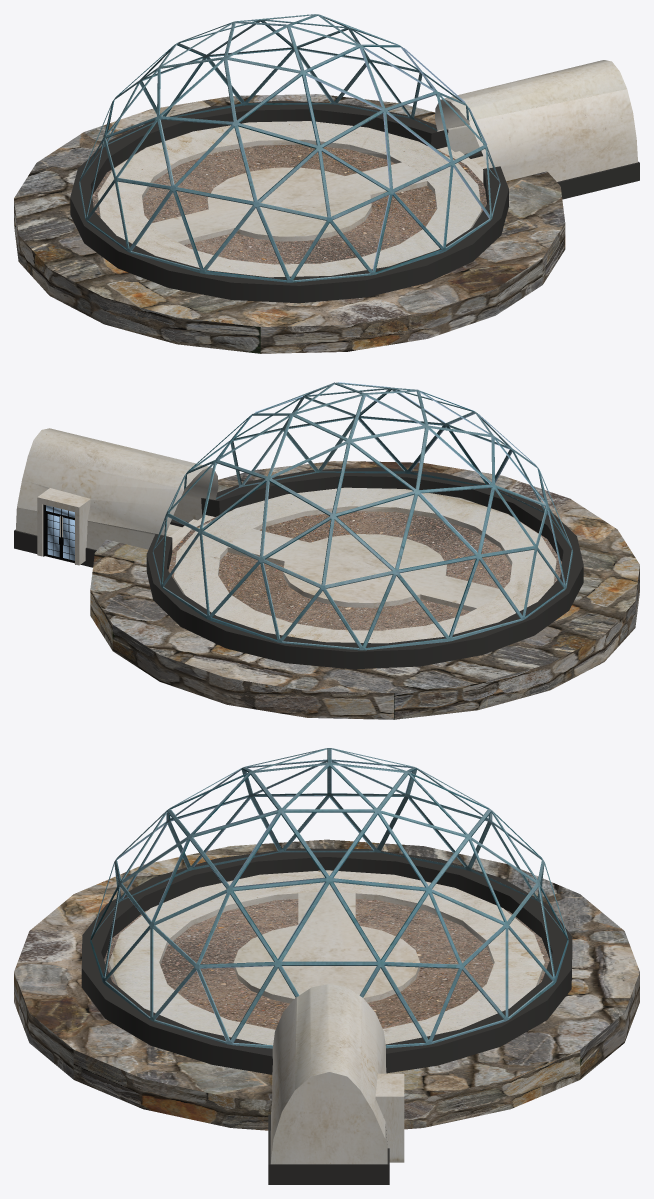
The model's file is Domo.obj.
The picture shows the model from 3 angles, top to bottom: view 1: azimuth 30°, elevation 25°; view 2: azimuth 150°, elevation 25°; view 3: azimuth 270°, elevation 25°; orthographic projection. The views are drawn at different scales.
Parts seen in each view (by area): view 1: polySurface3159; view 2: polySurface3159; view 3: polySurface3159.
Boxes of the visible parts, bbox=[...] form: polySurface3159: bbox=[14, 14, 639, 353]; polySurface3159: bbox=[14, 382, 639, 719]; polySurface3159: bbox=[14, 748, 639, 1184].
Size of the model in its own units: 22.1 by 8.07 by 18.79.
7 materials, 6 textured.
